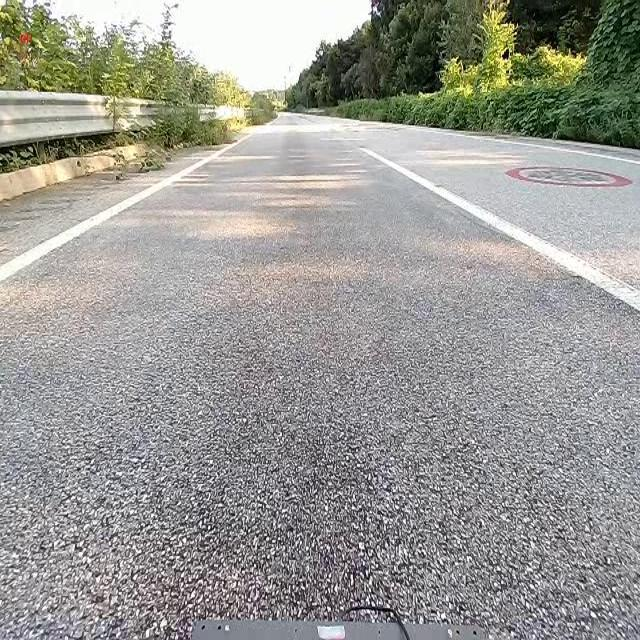Lane: (357, 140, 640, 322), (360, 147, 639, 311), (0, 127, 257, 280), (0, 139, 241, 284)
